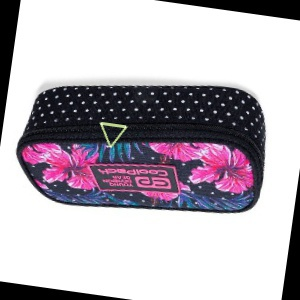triangle: (97, 119, 128, 149)
